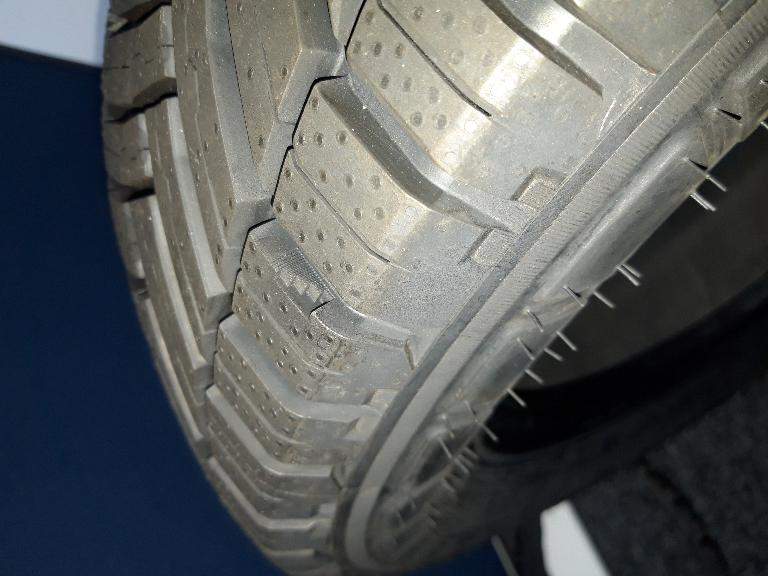temoin:100: (268, 247, 338, 322)
